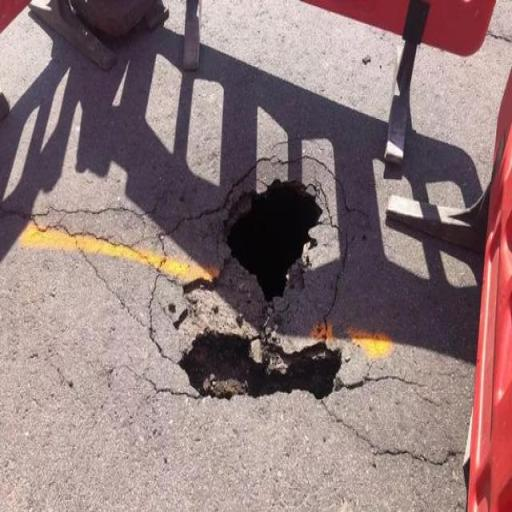Concentric_Crack: (227, 180, 320, 301), (181, 328, 341, 397)
